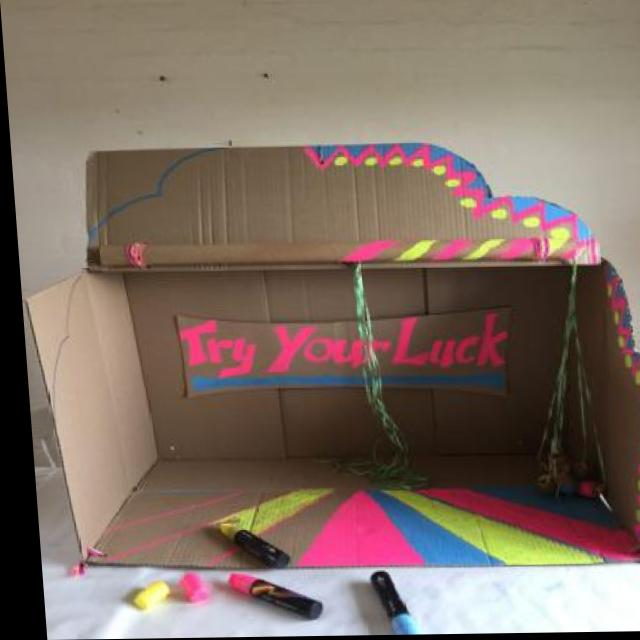box: (7, 121, 640, 616)
